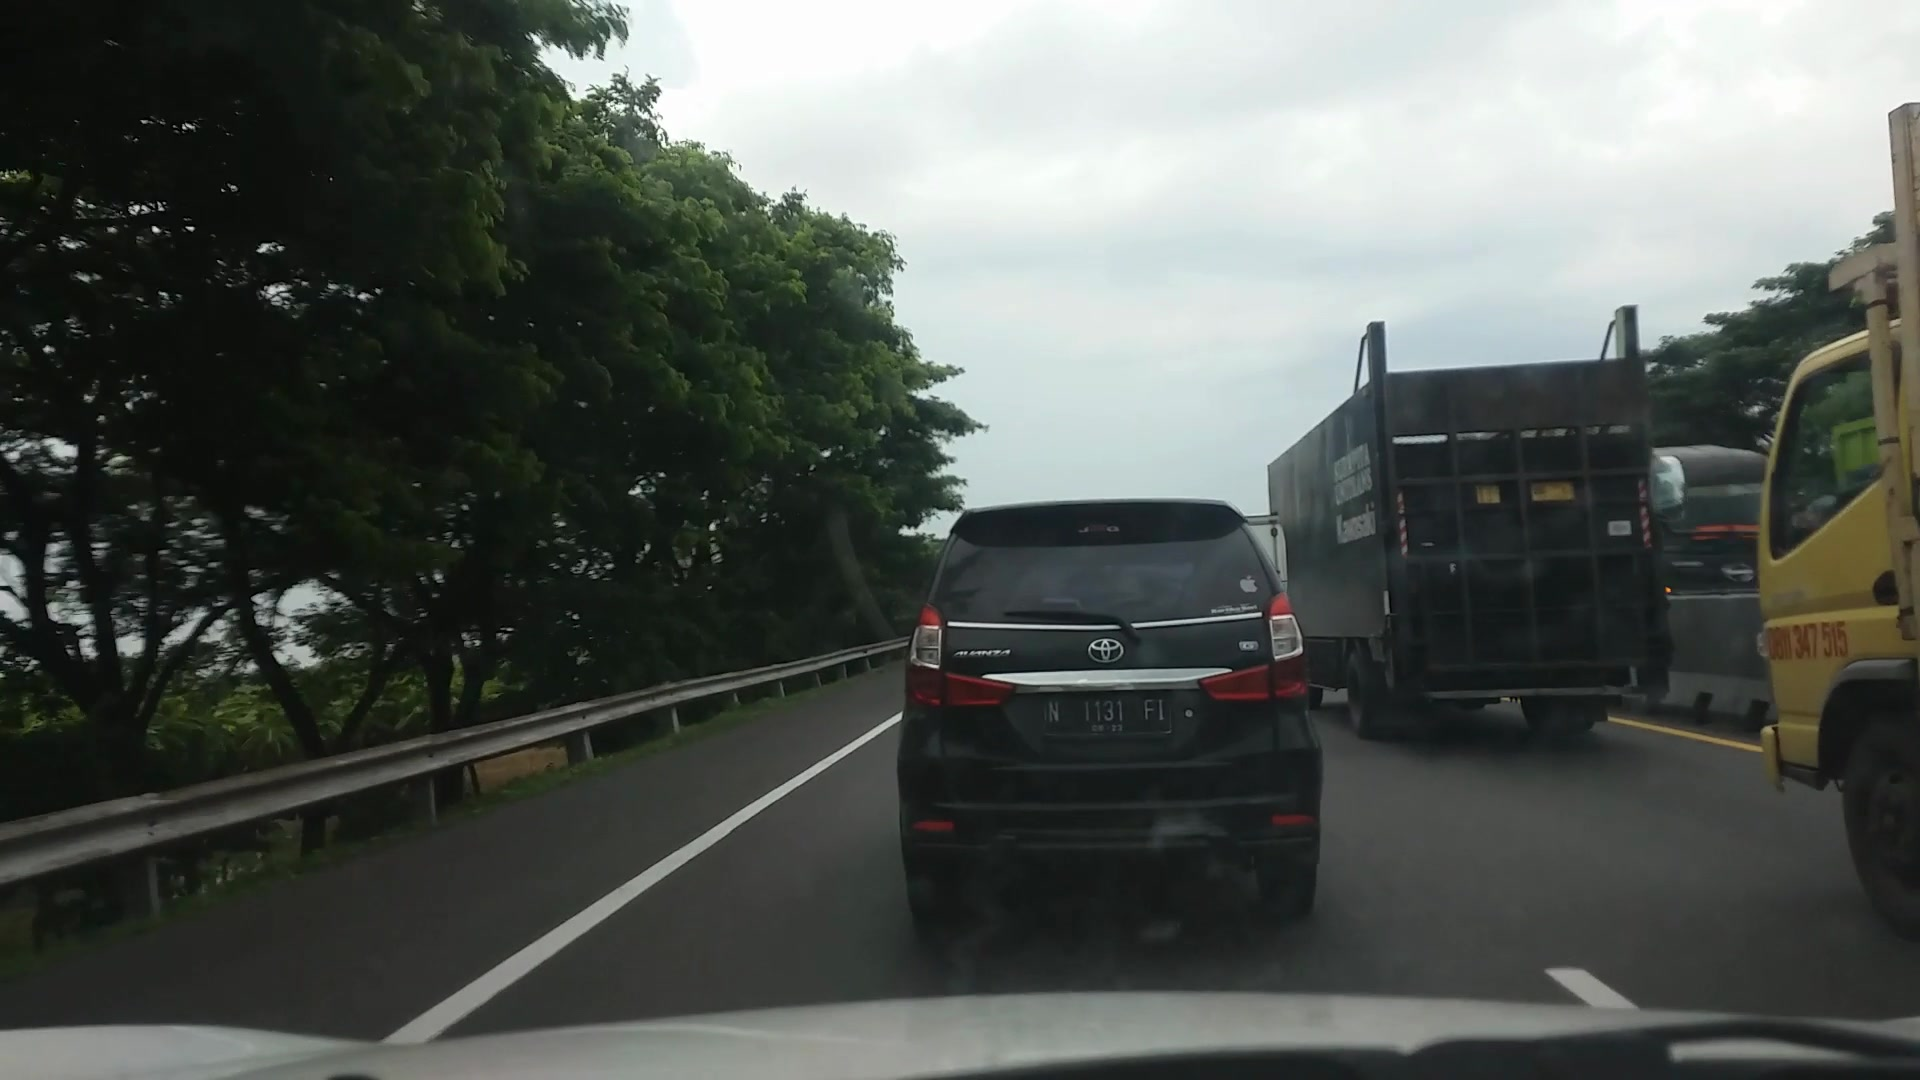plate_positive: (1042, 695, 1171, 735)
